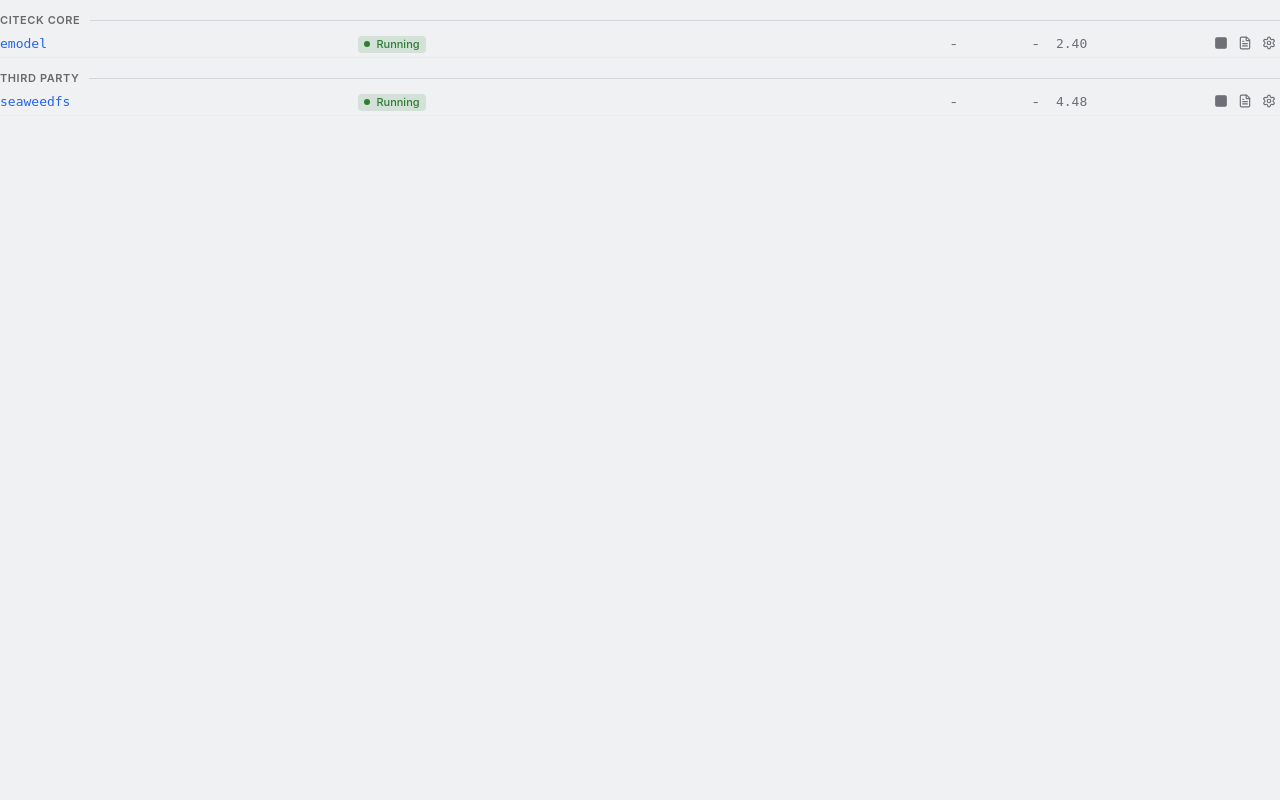
Test: does not stop another workspace namespace with the same id on an old confirmation
This screenshot has width=1280, height=800.
Click the button named "Stop (right-click: restart)" in the row of "seaweedfs" at (1221, 101), box [1210,92,1232,110]
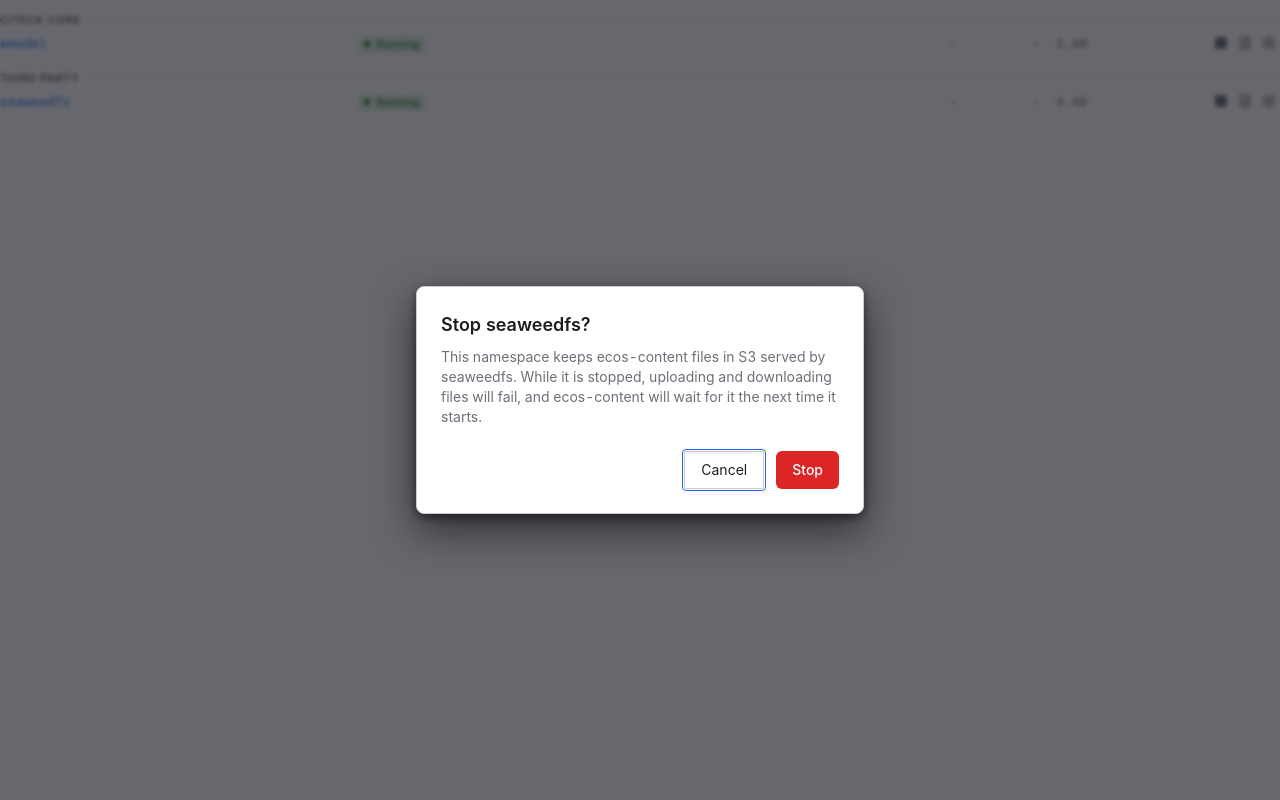
Expected: the dialog is shown, [416,286,864,514]
